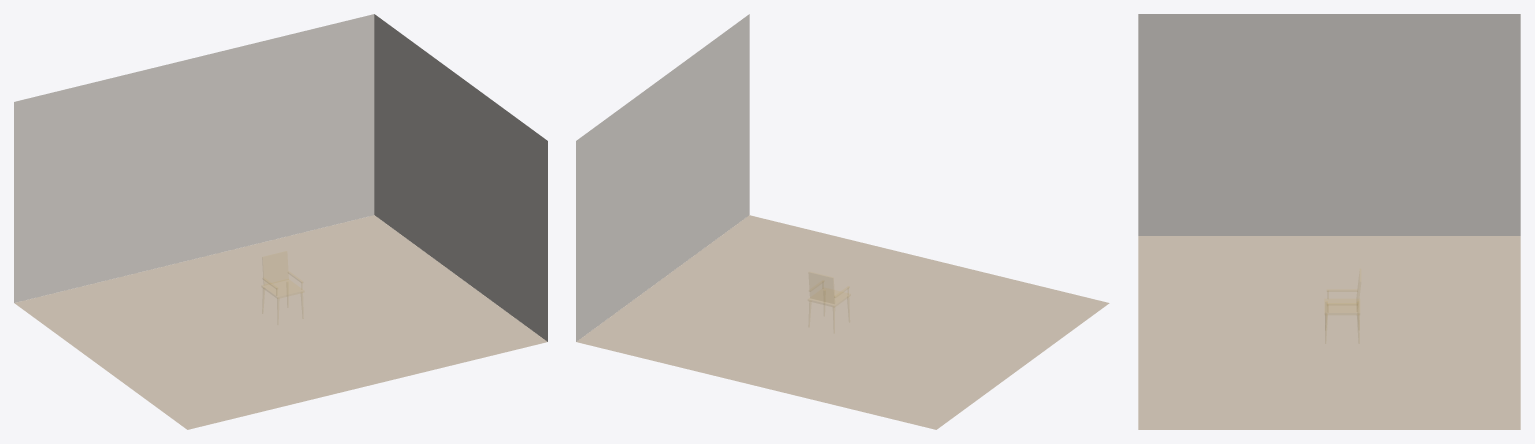
The model's file is silla-ghost.glb.
3 renders of one model, left to right at view 1: azimuth 30°, elevation 25°; view 2: azimuth 150°, elevation 25°; view 3: azimuth 270°, elevation 25°, orthographic. The views are drawn at different scales.
Parts seen in each view (by area): view 1: sala; view 2: sala; view 3: sala.
Boxes of the visible parts, bbox=[...] form: sala: bbox=[14, 14, 547, 429]; sala: bbox=[576, 14, 1109, 429]; sala: bbox=[1138, 14, 1520, 429].
Size of the model in its own units: 6 by 3.2 by 5.
